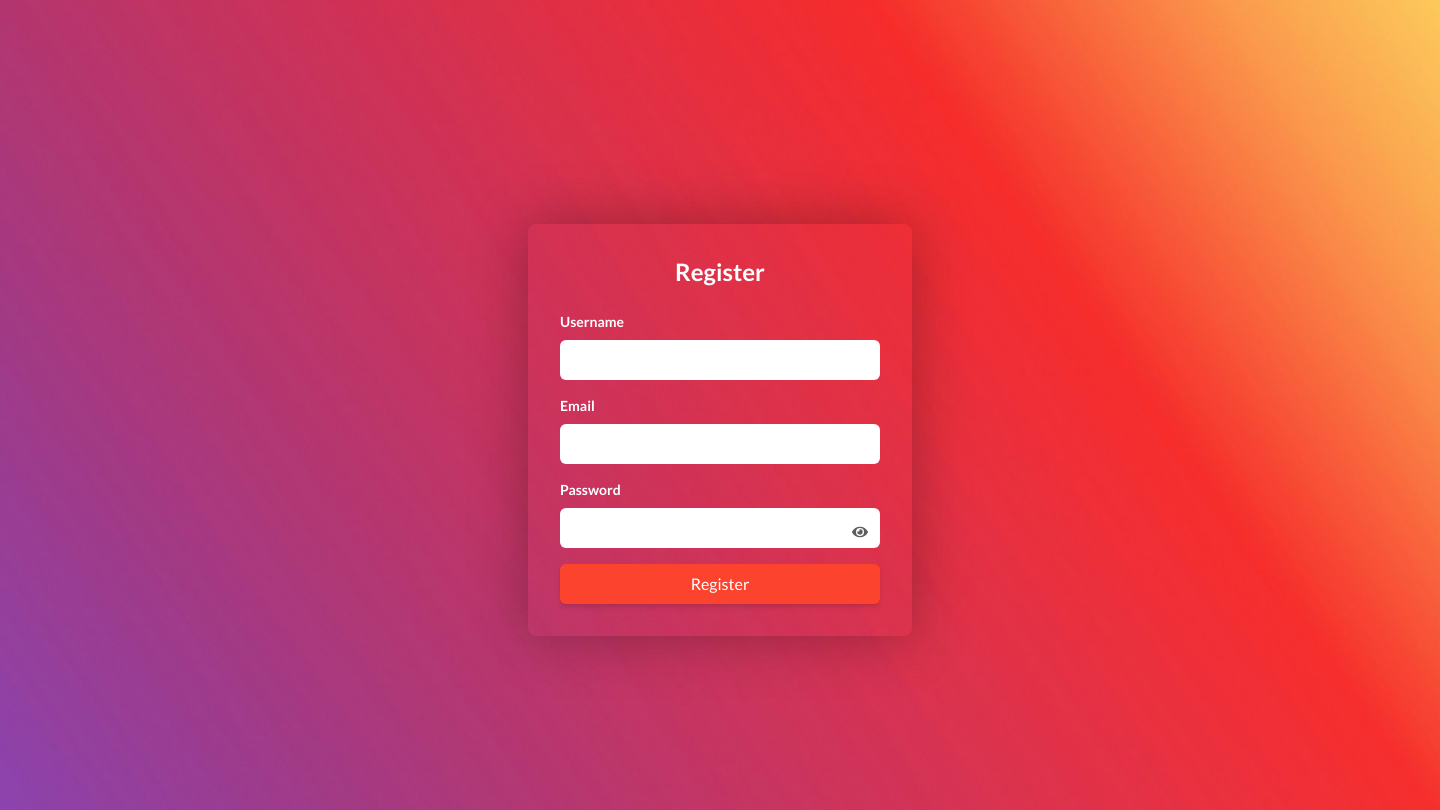
Test: Register › rejects a username shorter than 3 characters
Type "ab" into the field labelled "Username" at coordinates (720, 360), box [560,340,880,380]
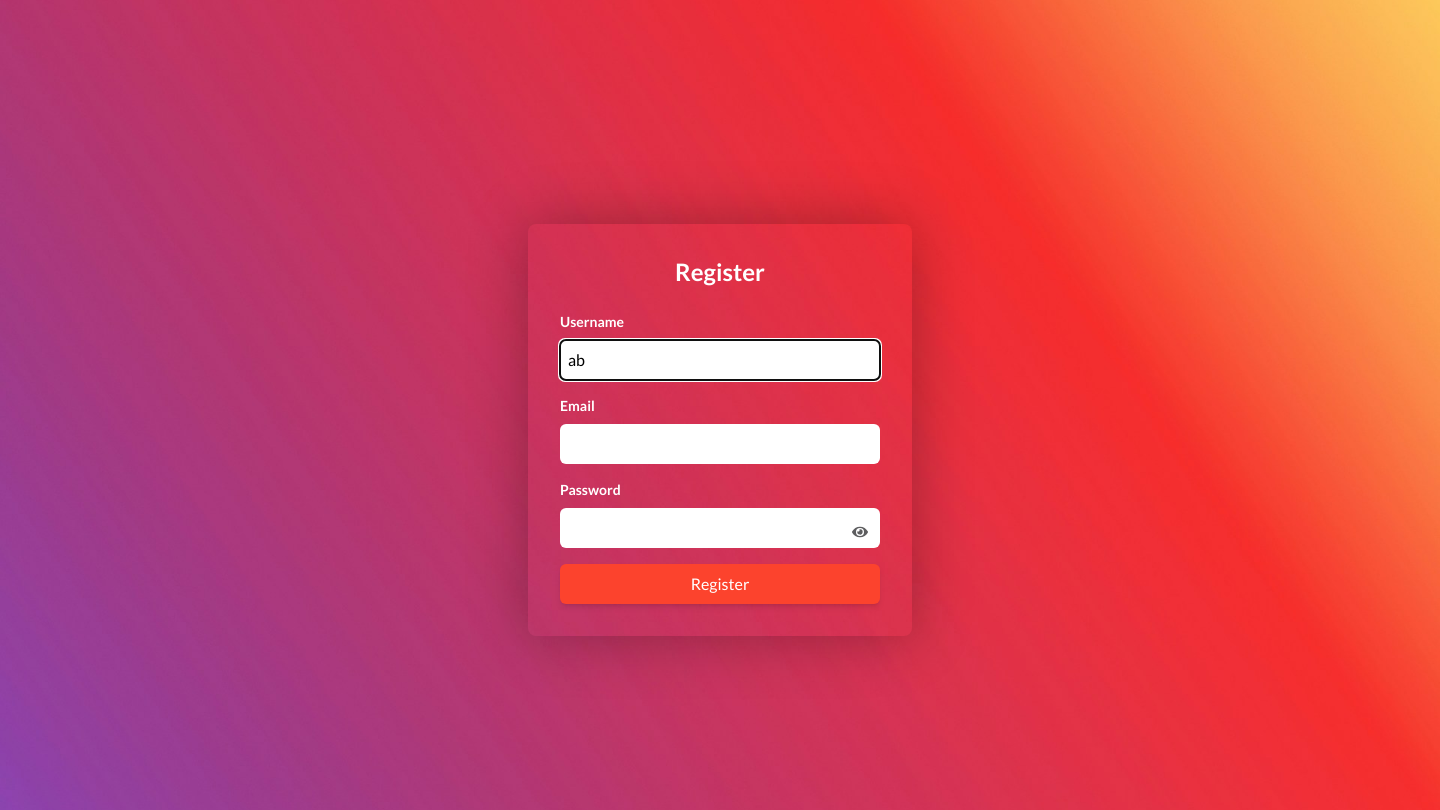
Type "alice@example.com" into the field labelled "Email" at coordinates (720, 444), box [560,424,880,464]
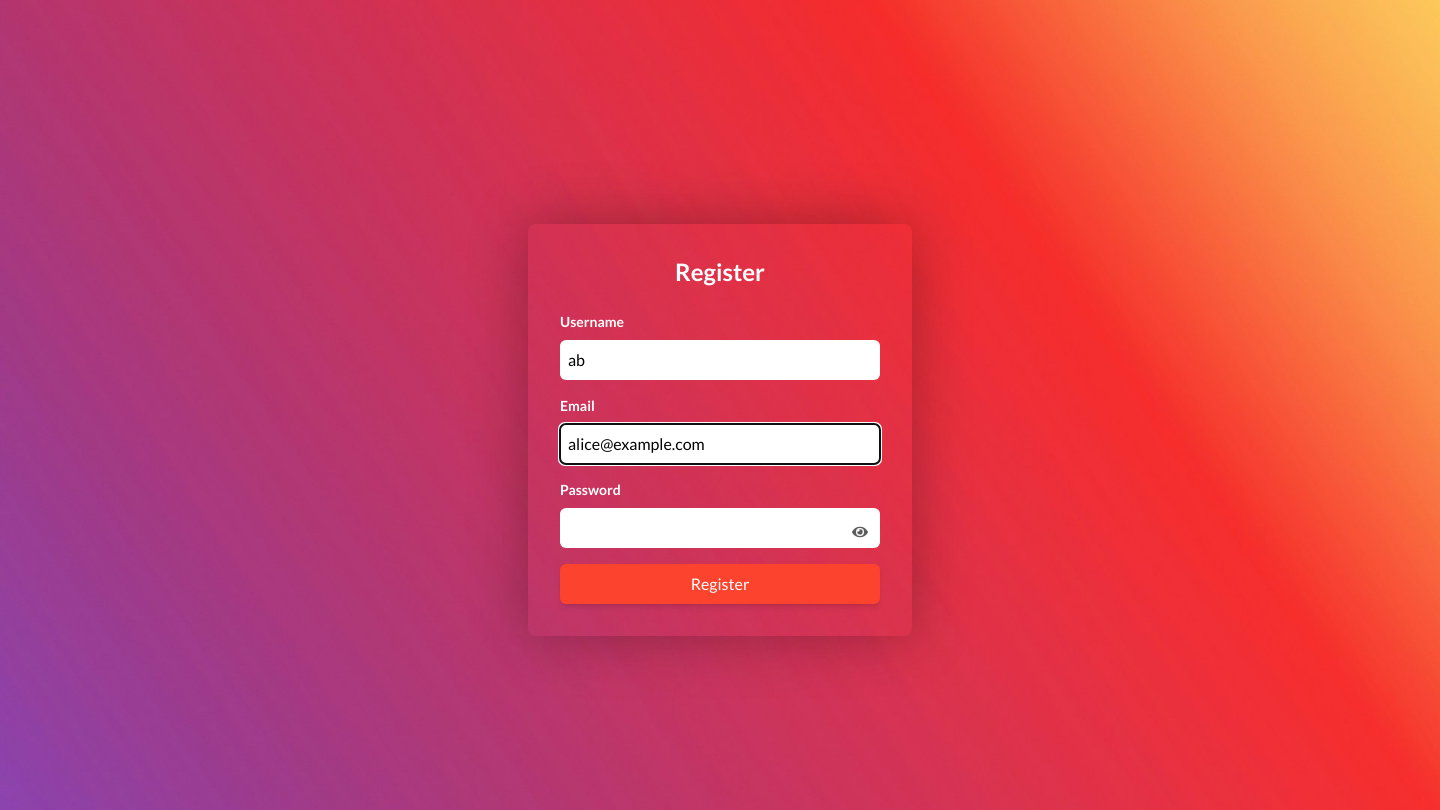
Type "secret123" into the password field labelled "Password" at coordinates (720, 528), box [560,508,880,548]
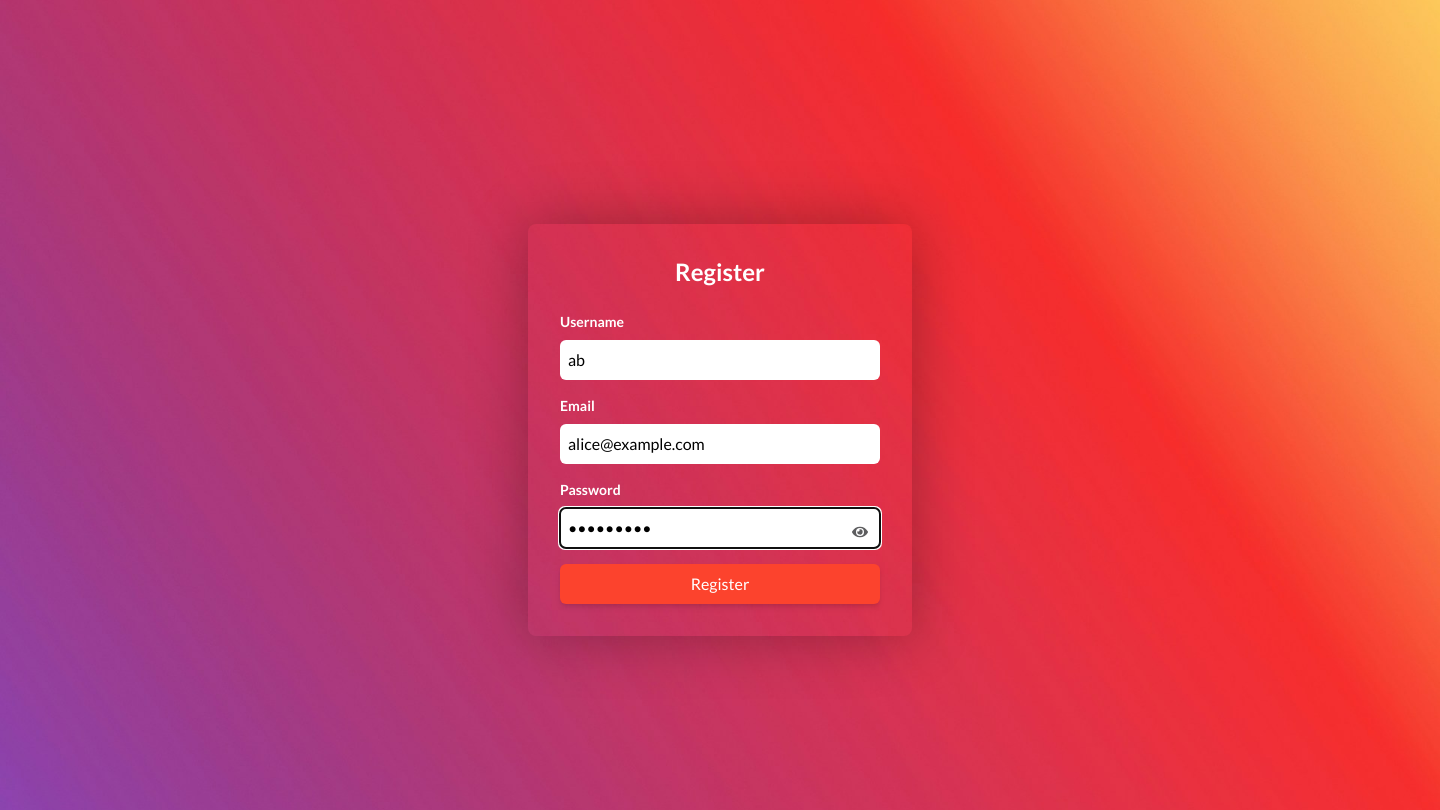
Click the button "Register" at coordinates (720, 584), box [560,564,880,604]
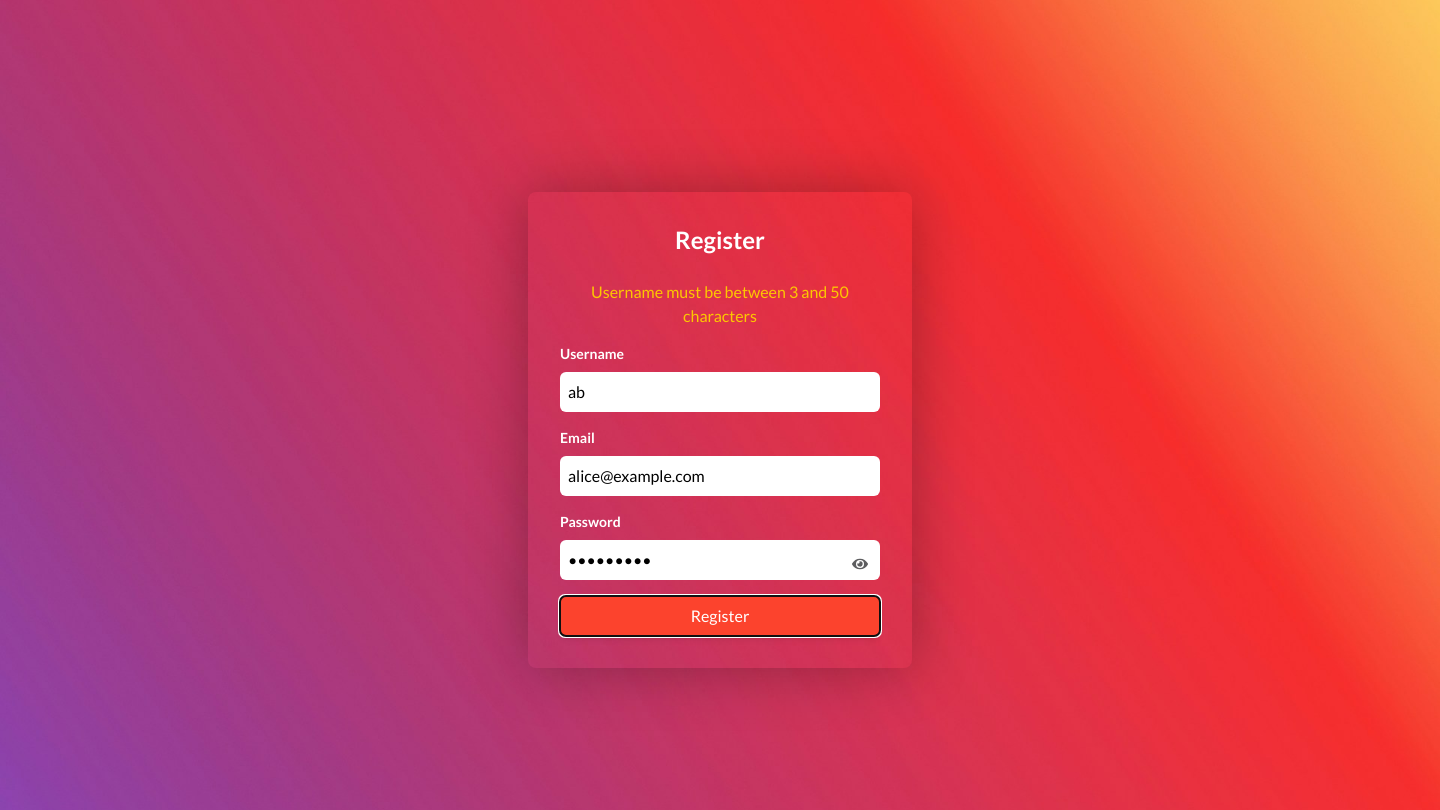
Check: the text "Username must be between 3 and 50 characters" is shown, box [591,282,849,325]
